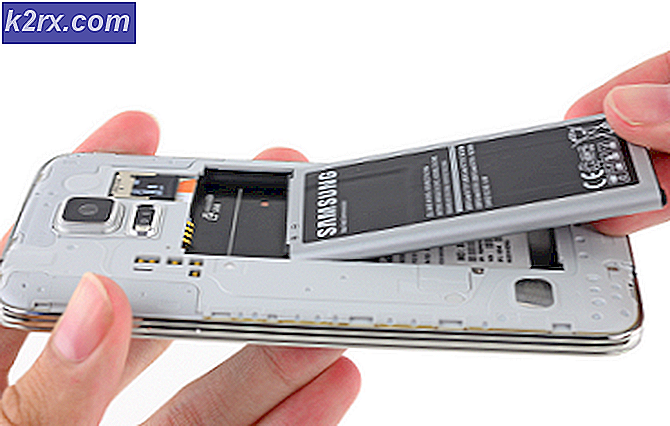Phone: (1, 115, 670, 356)
